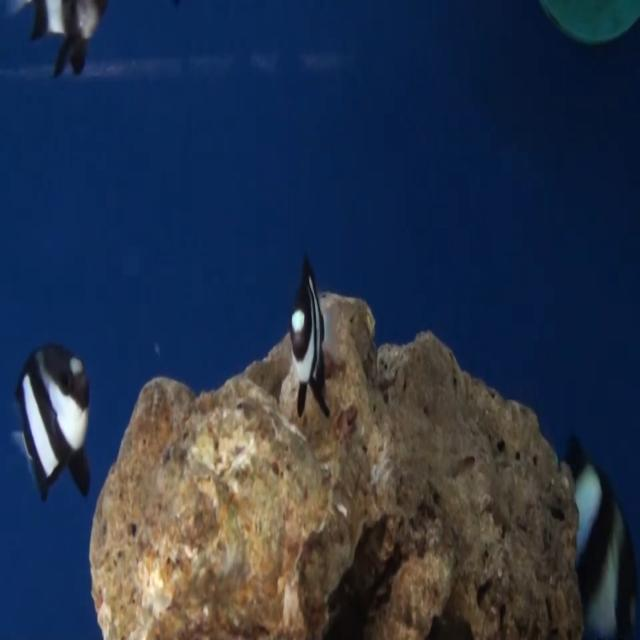ThreeStripedDamselfish: (12, 343, 91, 503), (286, 257, 329, 419)
